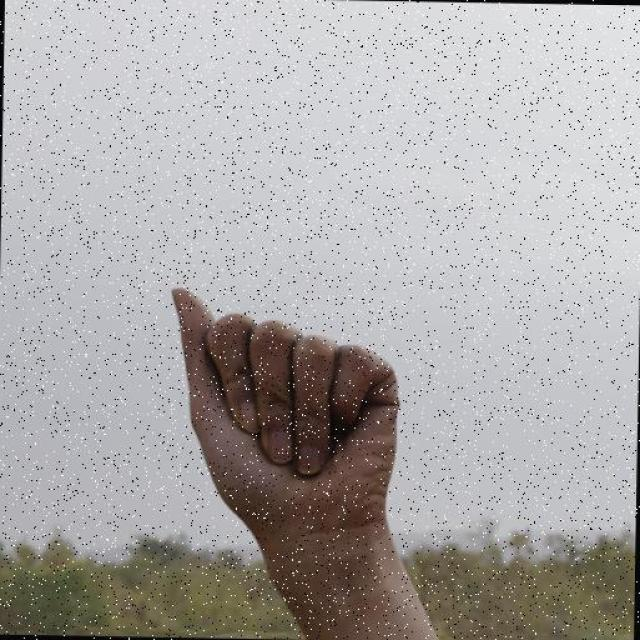A: (167, 284, 407, 538)
